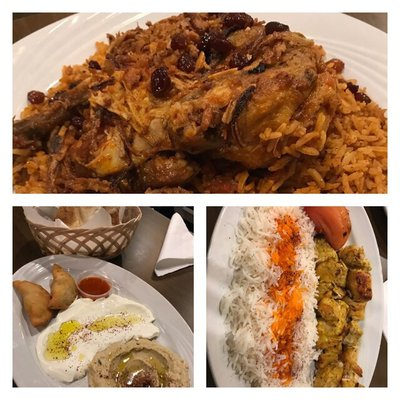sushi: (23, 207, 143, 261)
